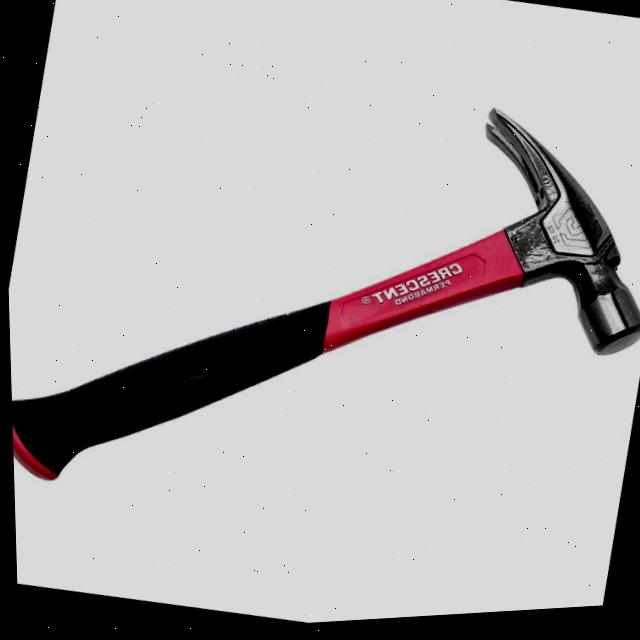hammer: (1, 13, 640, 597)
